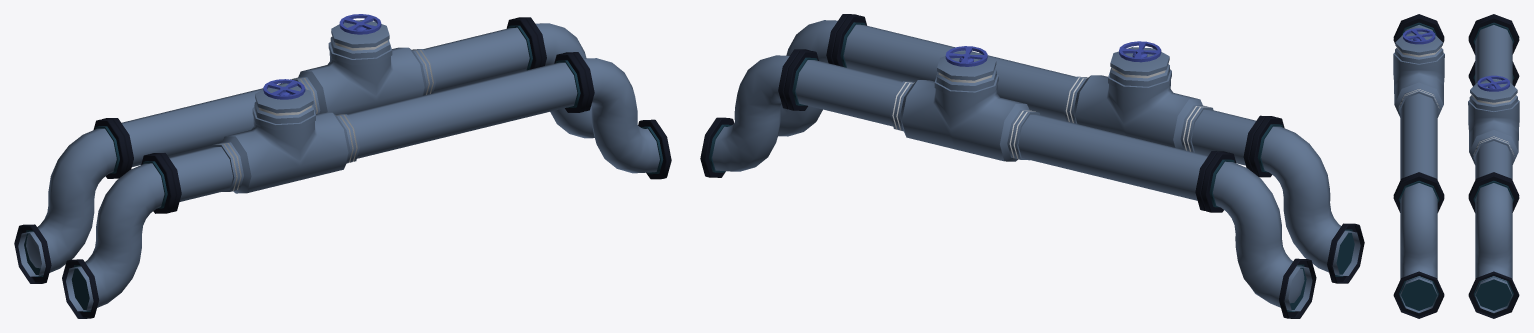
The model's file is PipeComplexSmall_A_09.fbx.
3 views of the same model, side by side, from view 1: azimuth 30°, elevation 25°; view 2: azimuth 150°, elevation 25°; view 3: azimuth 270°, elevation 25° (orthographic). The views are drawn at different scales.
Parts seen in each view (by area): view 1: PipeComplexSmall_A_09.001; view 2: PipeComplexSmall_A_09.001; view 3: PipeComplexSmall_A_09.001.
Part boxes in pixels (x1,y1,x2,y2): PipeComplexSmall_A_09.001: (14, 14, 671, 318); PipeComplexSmall_A_09.001: (700, 14, 1364, 318); PipeComplexSmall_A_09.001: (1393, 14, 1519, 318).
Bounding box in the file's own units: 1.4 × 0.4185 × 0.3378.
